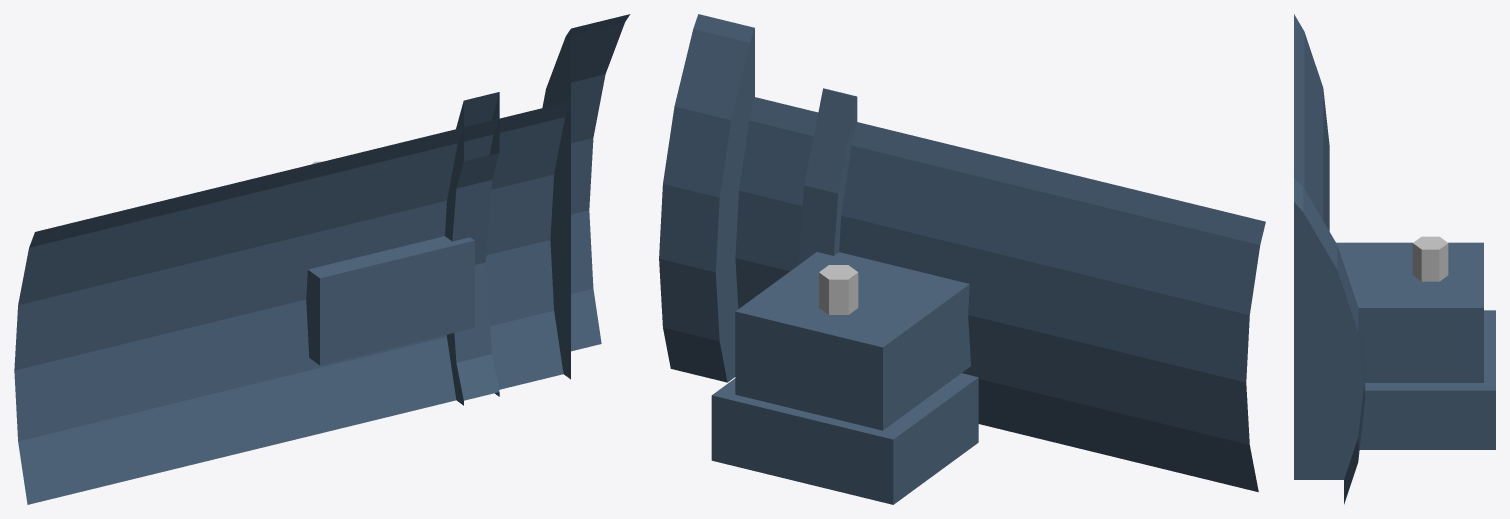
File: cell_30.obj
3 views of the same model, side by side, from view 1: azimuth 30°, elevation 25°; view 2: azimuth 150°, elevation 25°; view 3: azimuth 270°, elevation 25° (orthographic). The views are drawn at different scales.
Size of the model in its own units: 1 by 0.5634 by 0.34.
